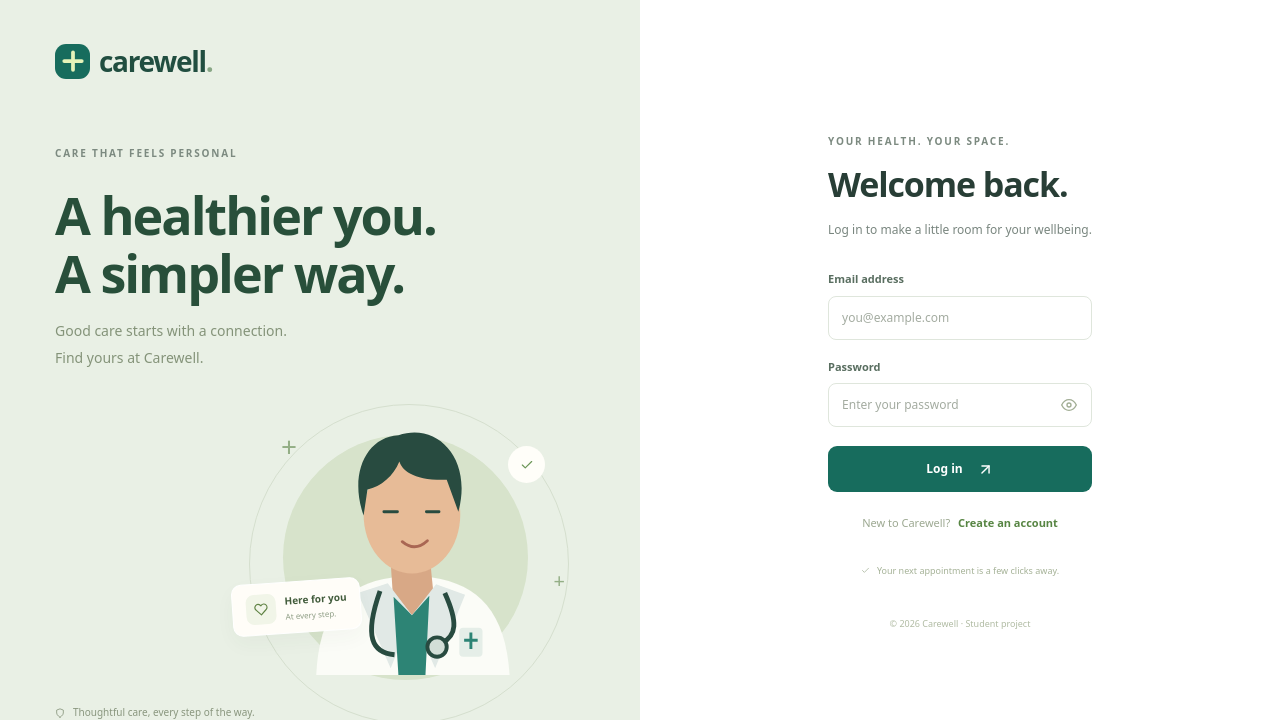
Scenario: patient interface › shows a failed login message and allows password visibility
Type "alex@example.com" into the field labelled "Email address" at point(960, 318), box [828,296,1092,340]
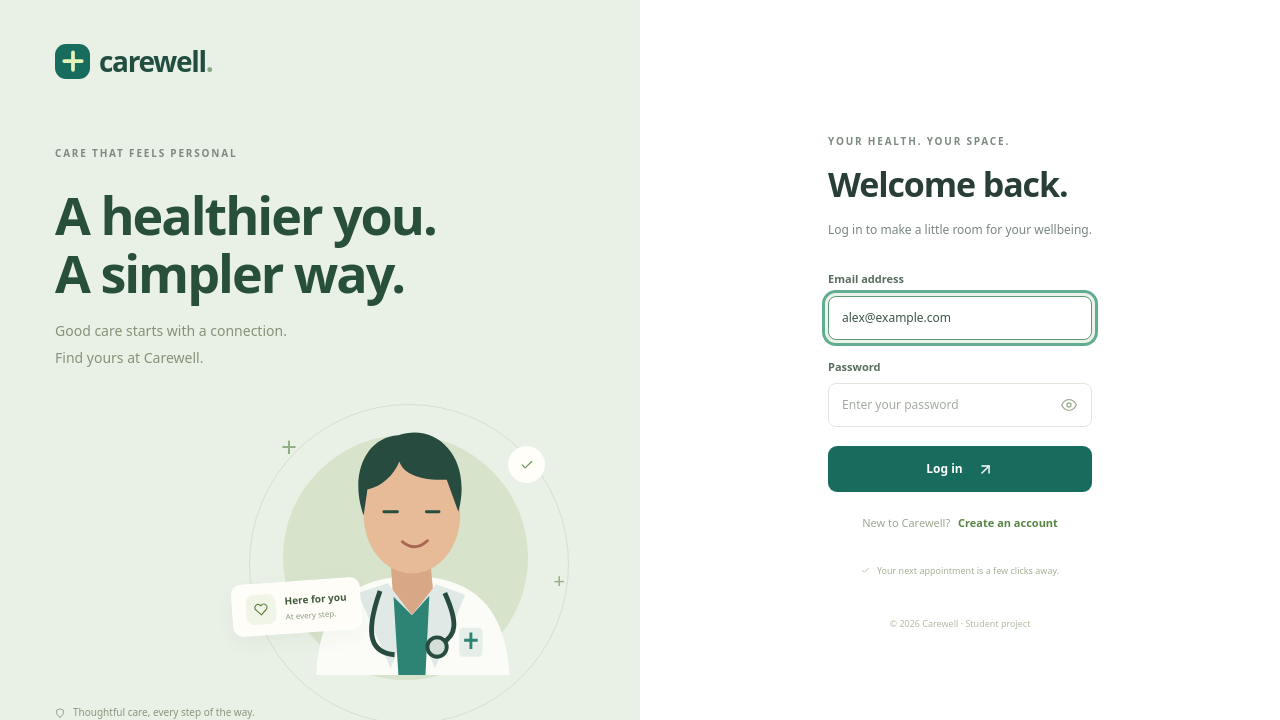
Type "WrongPass123" into the password field labelled "Password" at point(960, 405), box [828,383,1092,427]
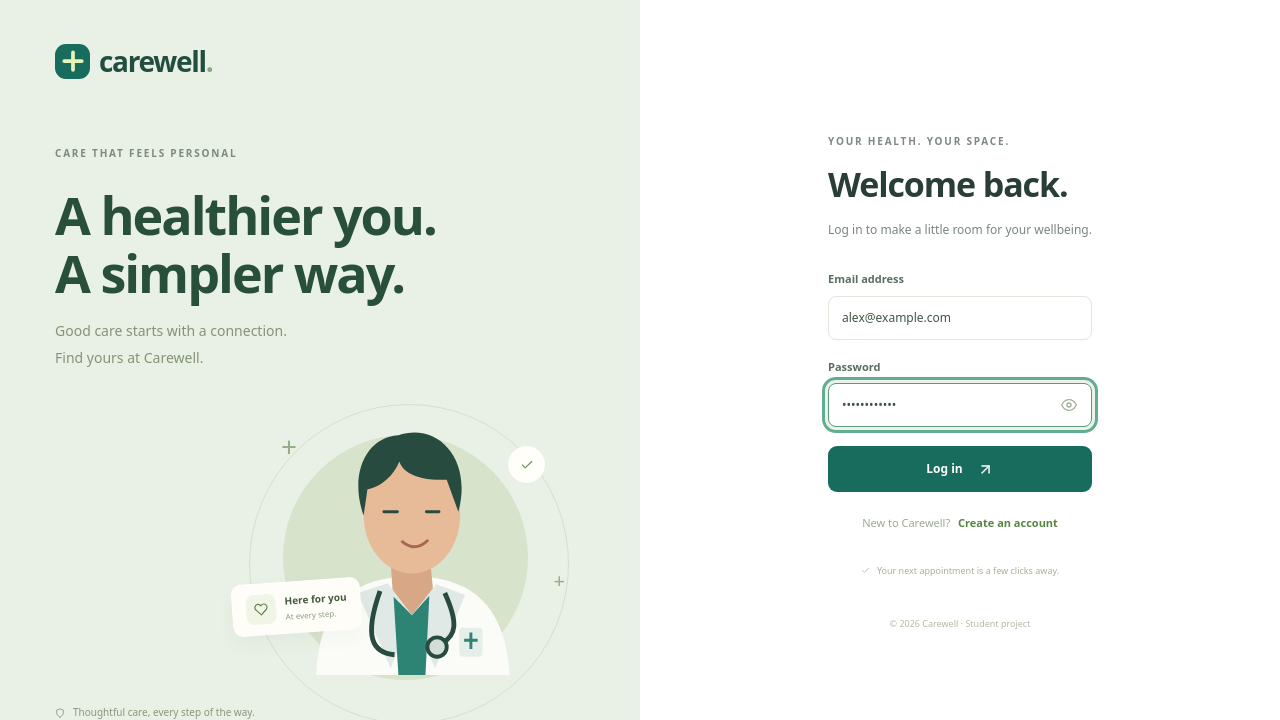
Click the button named "Show password" at point(1069, 405), box [1054,390,1084,420]
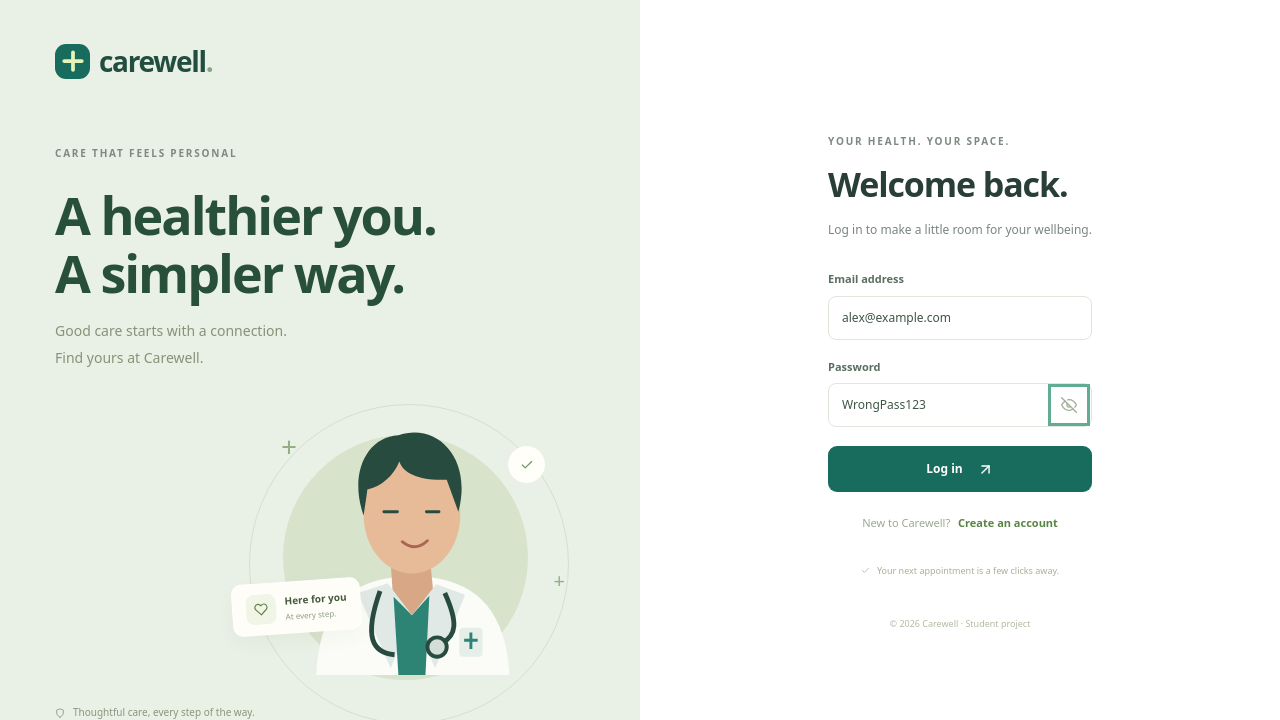
Check: the field labelled "Password" shows its text, box [828,383,1092,427]
Click the button "Log in" at point(960, 469), box [828,446,1092,492]
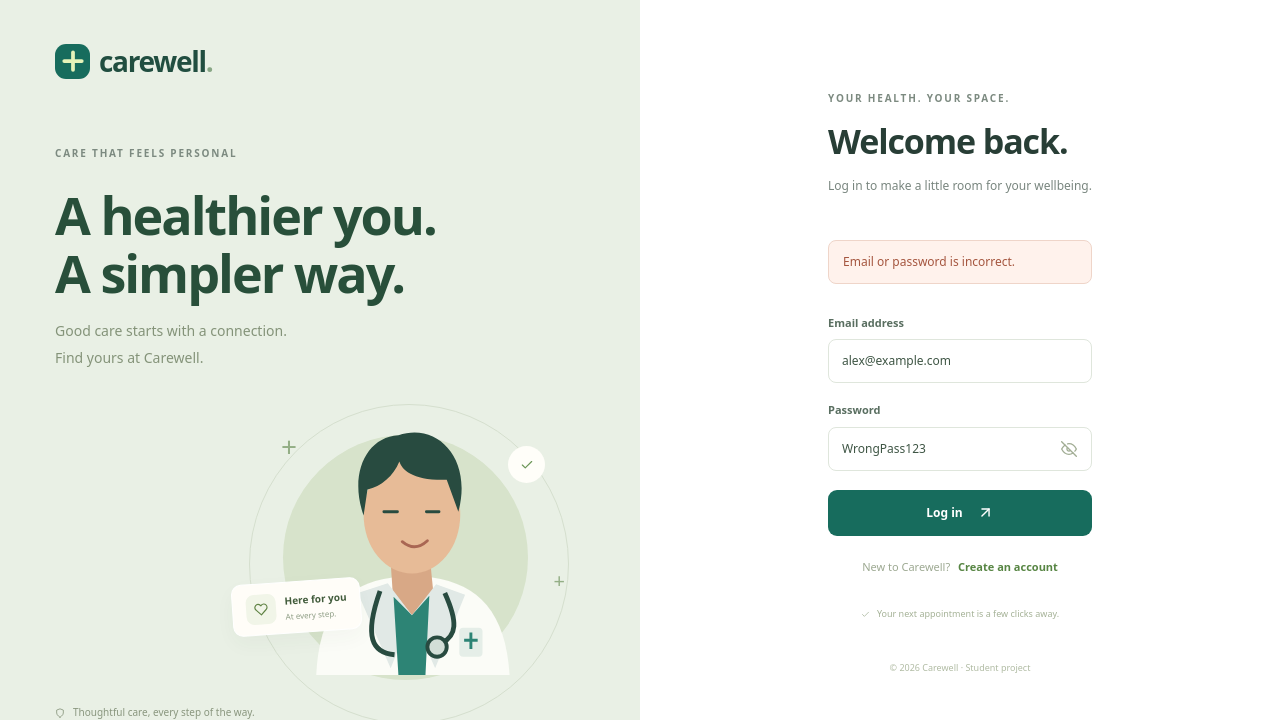
Check: the message reads "Email or password is incorrect.", box [843,253,1015,270]
